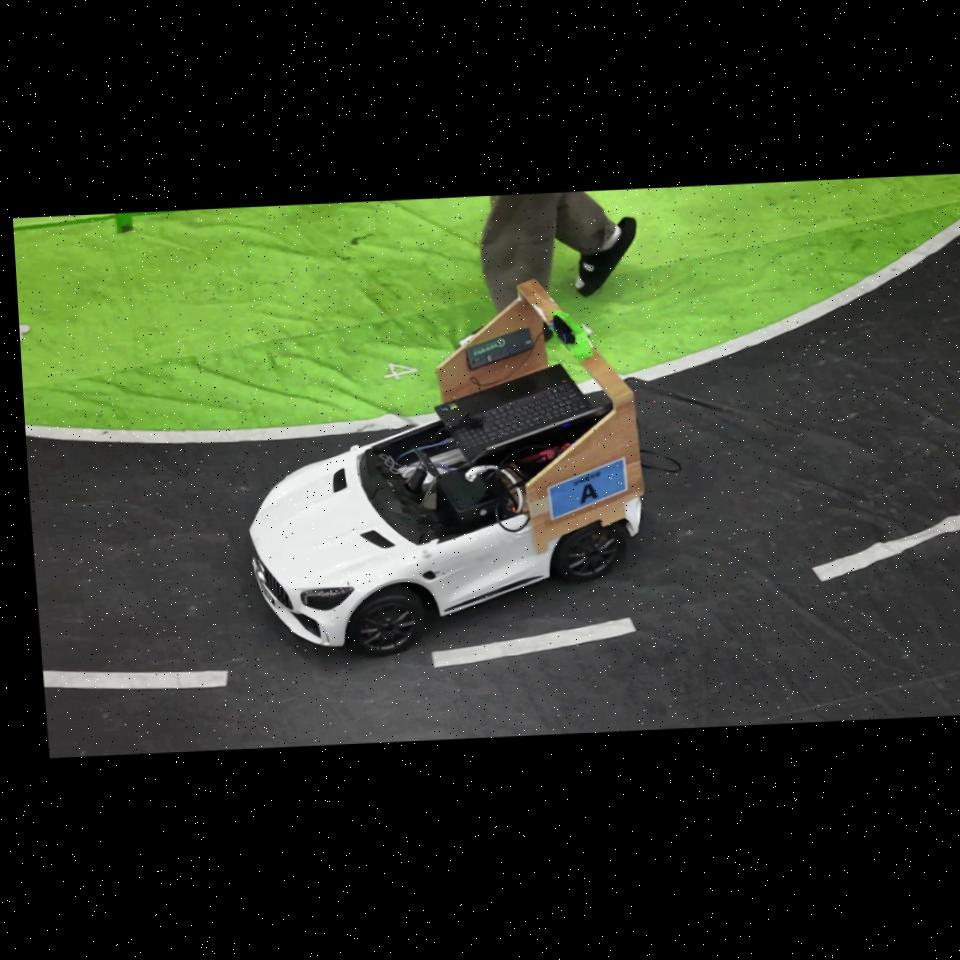broken_line: (432, 618, 636, 668), (813, 514, 960, 580), (43, 670, 228, 689)
